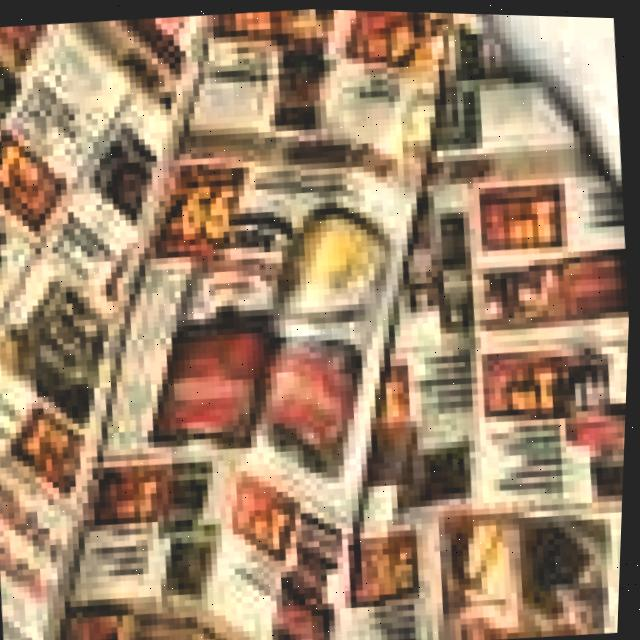paper: (0, 7, 631, 640)
